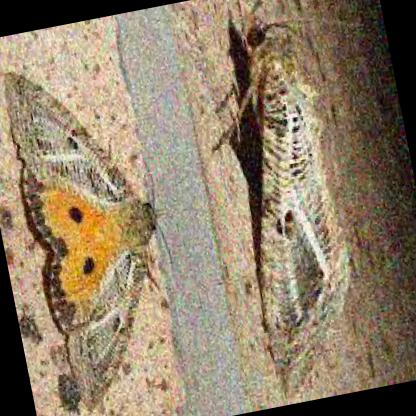fruit sucking moth: (2, 72, 152, 412)
